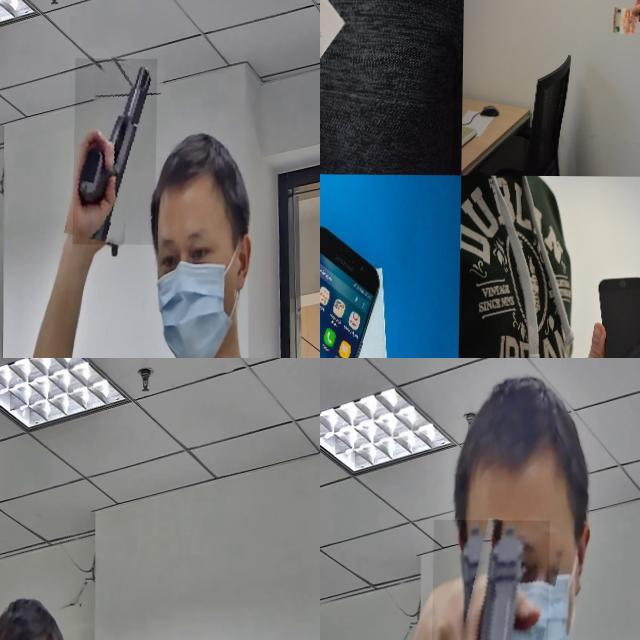gun-knife-thesis - v11 Yolov5 augmented: (74, 58, 158, 244), (430, 519, 550, 640), (0, 475, 31, 640)
